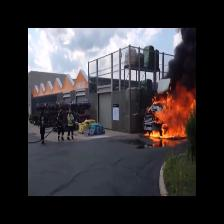fire: (153, 93, 194, 143)
smoke: (177, 30, 194, 81)
